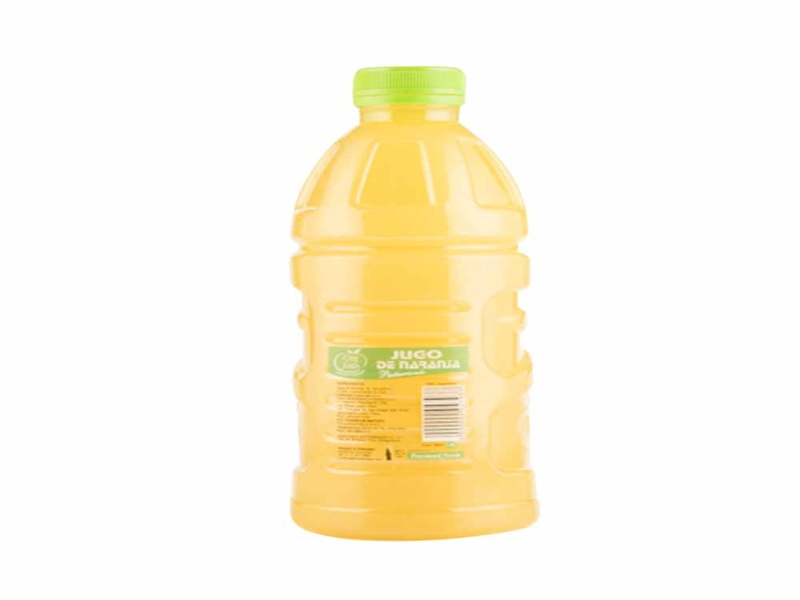Jugo de naranja: (291, 66, 541, 538)
